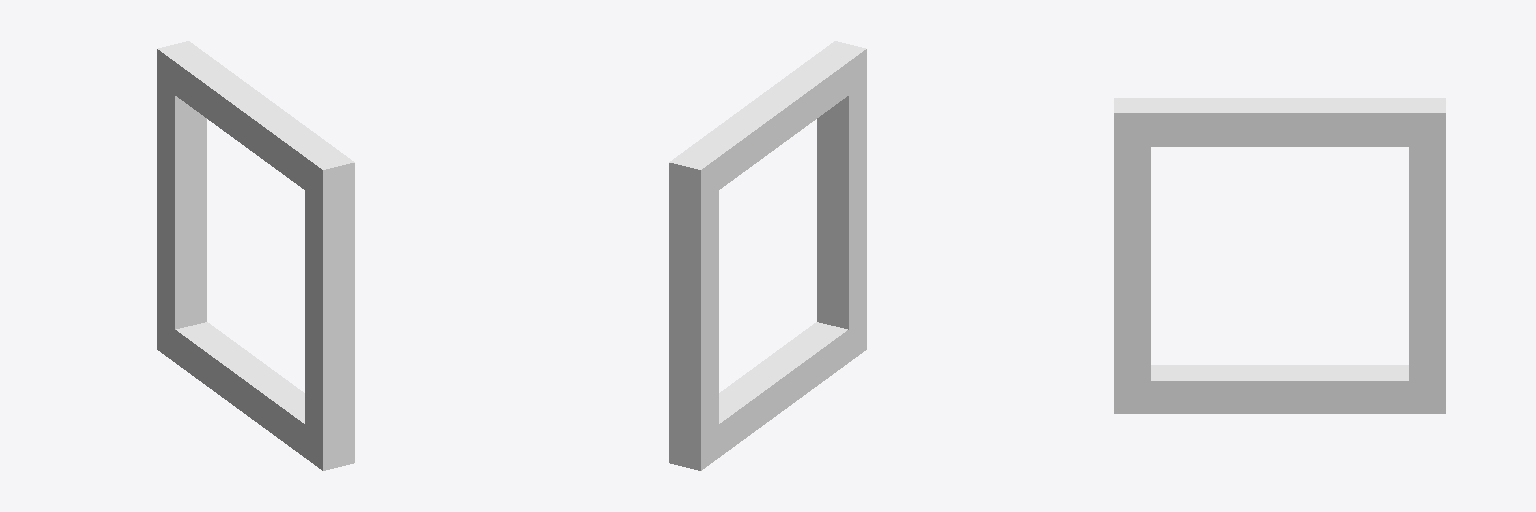
The model's file is button-outer.obj.
3 views of the same model, side by side, from view 1: azimuth 30°, elevation 25°; view 2: azimuth 150°, elevation 25°; view 3: azimuth 270°, elevation 25° (orthographic).
Size of the model in its own units: 1 by 9 by 9.